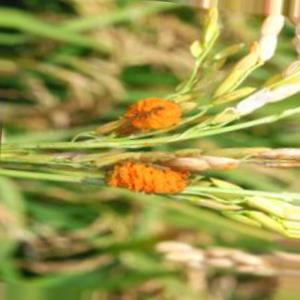Leaf_Scald: (116, 161, 184, 195), (118, 103, 178, 139)
